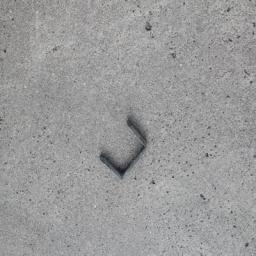FOD: (97, 118, 155, 182)
